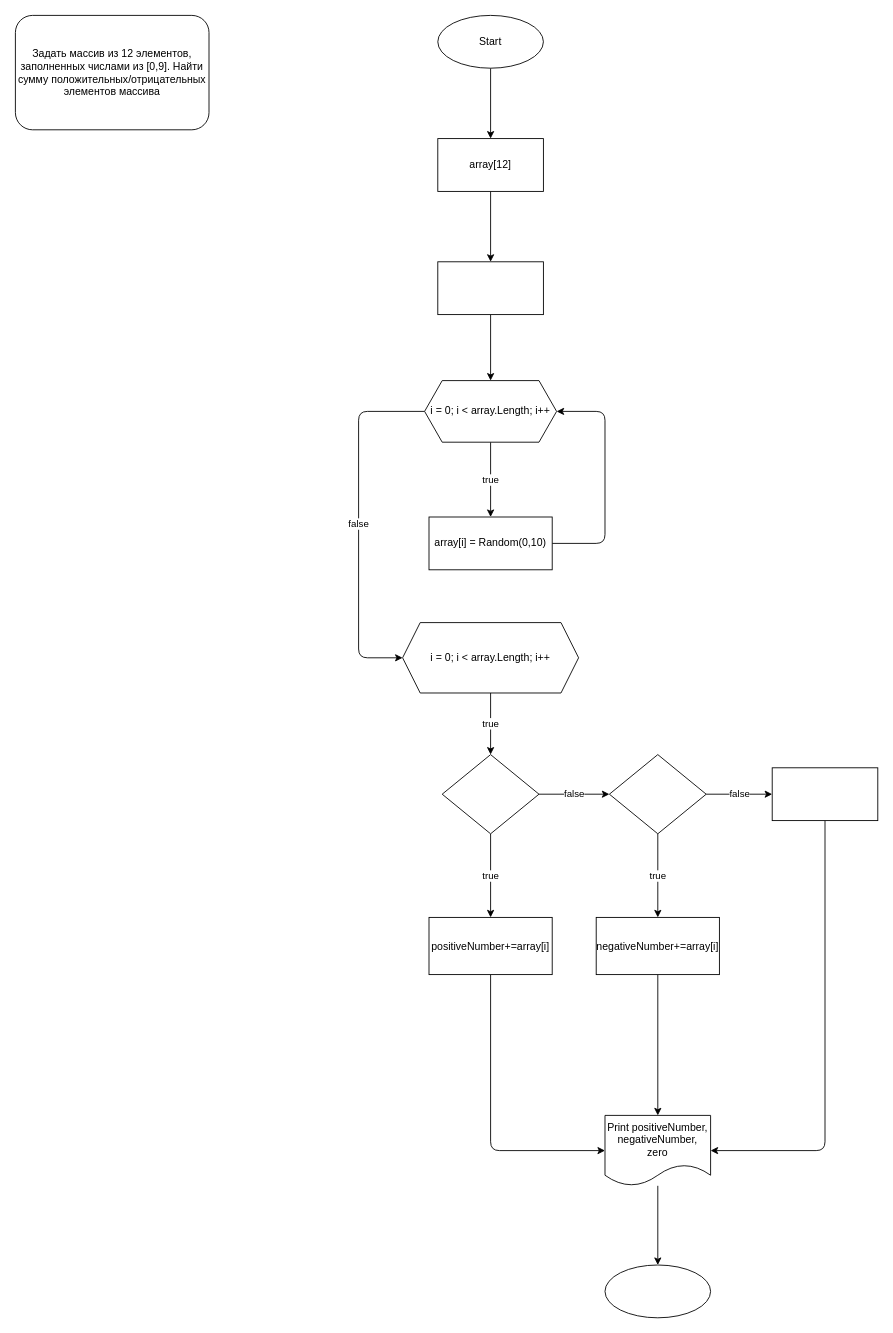
Some shapes in this 893 by 1333 pixel diagram are drawn without their labels. The shapes that lost their labels are listed below. From the top down, each one's centre as x and y in pixels, then its label:
At [490,288]: "positiveNumber = 0, negativeNumber = 0, zero = 0".
At [490,794]: "array[i] > 0".
At [657,794]: "array[i] < 0".
At [824,794]: "zero++".
At [657,1291]: "End".
